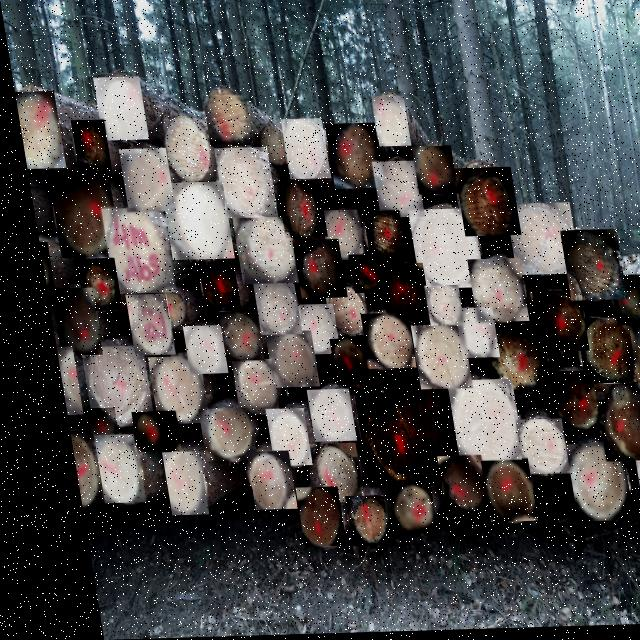wood-log: (338, 371, 447, 489), (433, 382, 509, 468), (42, 170, 114, 259), (95, 208, 168, 294), (400, 211, 476, 291), (69, 346, 142, 427), (154, 183, 226, 261), (498, 206, 571, 278), (550, 446, 616, 525), (580, 386, 640, 465), (206, 148, 271, 220), (552, 233, 617, 304), (475, 327, 540, 396), (448, 170, 513, 239), (225, 218, 290, 285), (564, 321, 628, 387), (135, 357, 196, 425), (399, 327, 459, 392), (458, 261, 518, 325), (320, 125, 378, 191), (12, 91, 61, 169), (289, 444, 348, 505), (520, 294, 578, 355), (114, 149, 169, 213), (158, 119, 213, 183), (90, 77, 144, 141), (533, 374, 589, 435), (465, 463, 520, 525), (41, 288, 91, 356), (80, 435, 130, 503), (284, 241, 338, 300), (116, 294, 166, 356), (184, 409, 242, 462), (369, 265, 421, 324), (350, 315, 404, 371), (254, 332, 307, 389), (501, 422, 554, 479), (276, 120, 325, 181), (279, 488, 328, 548), (366, 163, 417, 220), (231, 452, 280, 511), (147, 452, 192, 516), (421, 458, 472, 514), (271, 182, 320, 239), (252, 409, 297, 467), (219, 360, 266, 415), (199, 97, 249, 148), (294, 390, 342, 443), (243, 284, 291, 336), (373, 485, 420, 536), (55, 431, 86, 508), (67, 258, 112, 311), (284, 305, 329, 356), (328, 497, 372, 548), (444, 310, 488, 361), (314, 289, 359, 338), (171, 326, 216, 375), (406, 148, 451, 197), (314, 212, 358, 262), (208, 314, 252, 362), (355, 213, 398, 262), (67, 120, 106, 173), (600, 278, 640, 329), (368, 98, 407, 149), (318, 340, 360, 387), (117, 412, 166, 452), (190, 266, 231, 312), (617, 442, 640, 516), (45, 347, 69, 415), (414, 287, 453, 328), (617, 326, 640, 392), (340, 257, 375, 295), (71, 408, 105, 442), (31, 242, 45, 291), (638, 393, 640, 442)
